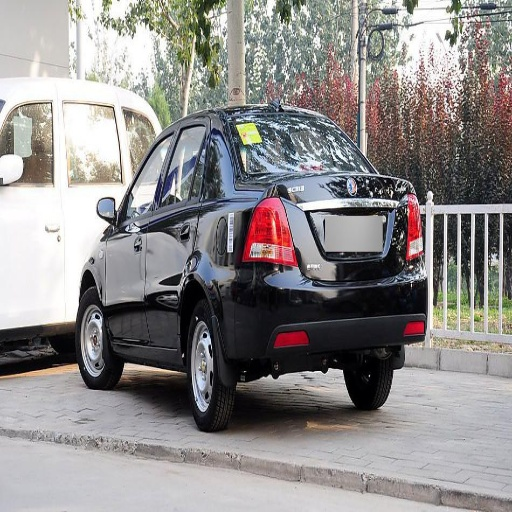back_bumper: (224, 257, 424, 365)
back_glass: (238, 114, 365, 174)
back_left_door: (146, 124, 224, 343)
